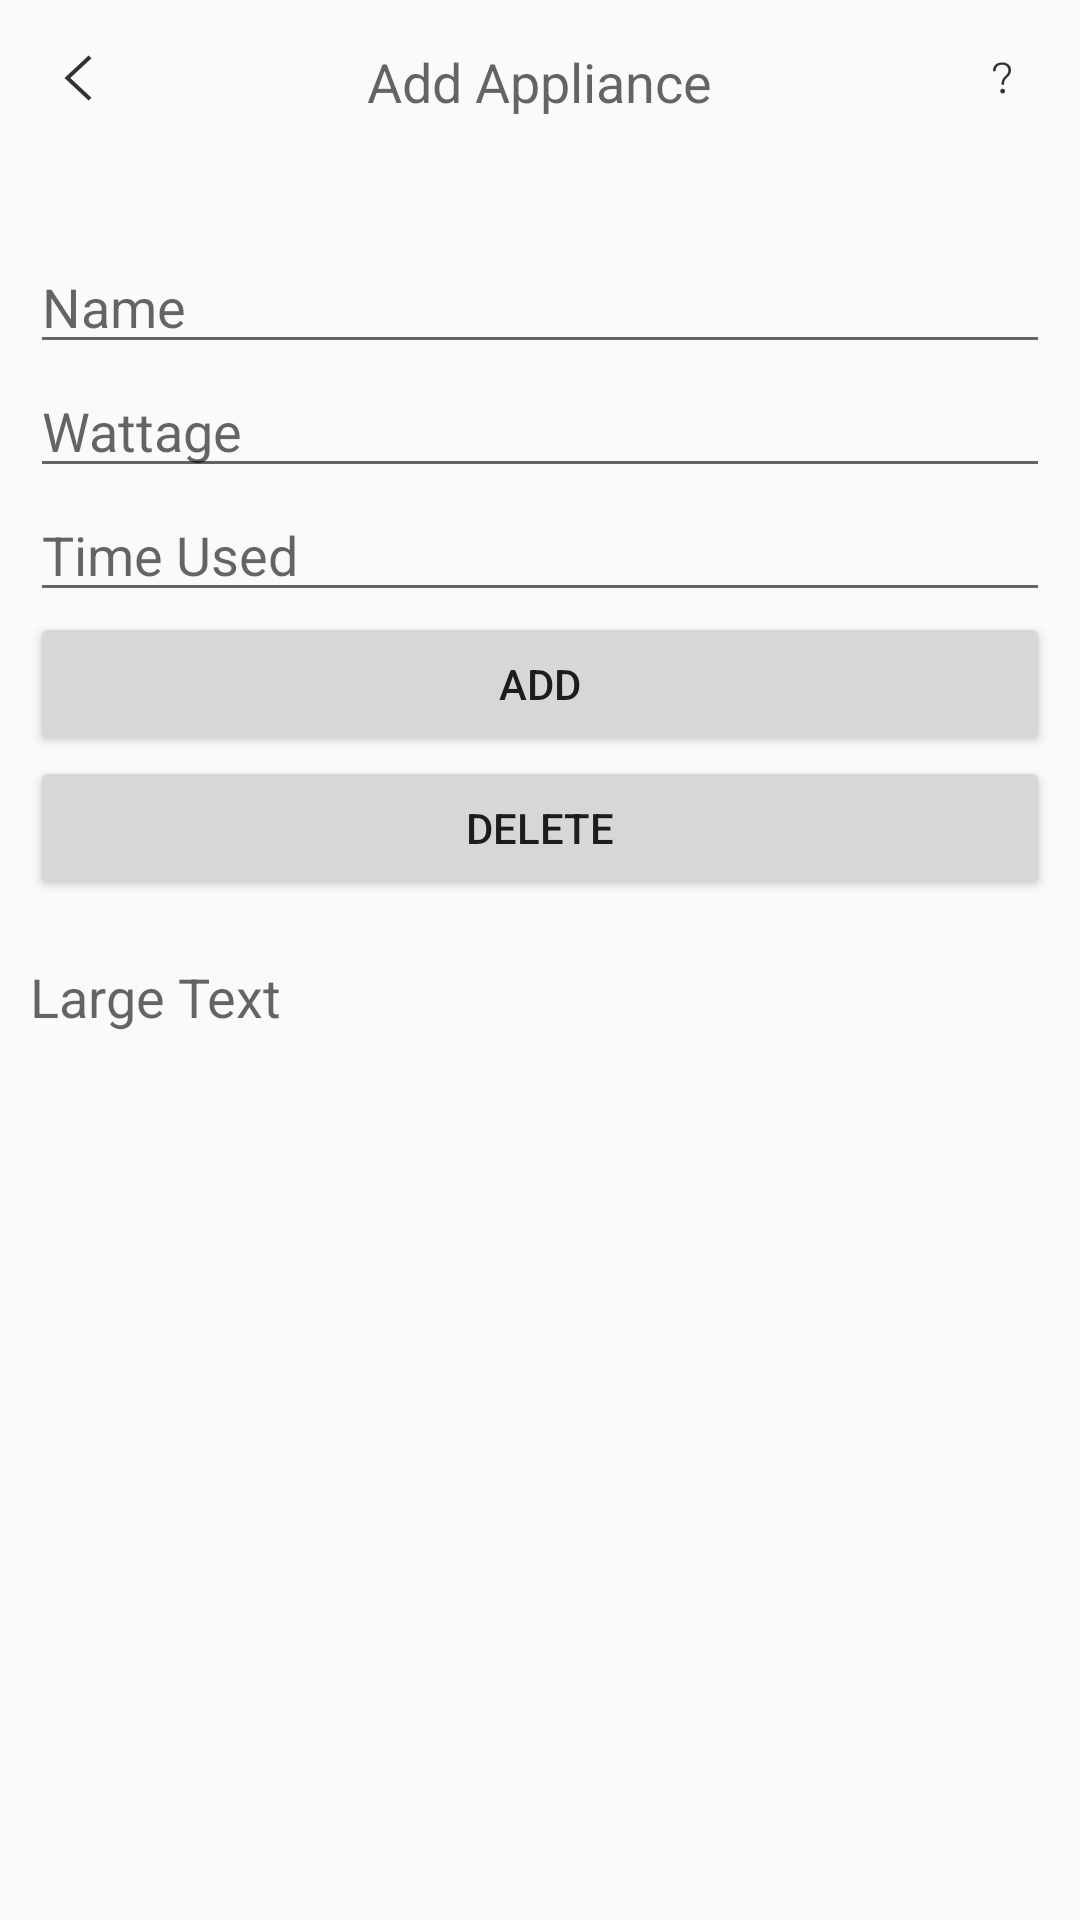

Where to tap for icons on this 1080x1920 app screen, as (x,y):
help: (1002,78)
